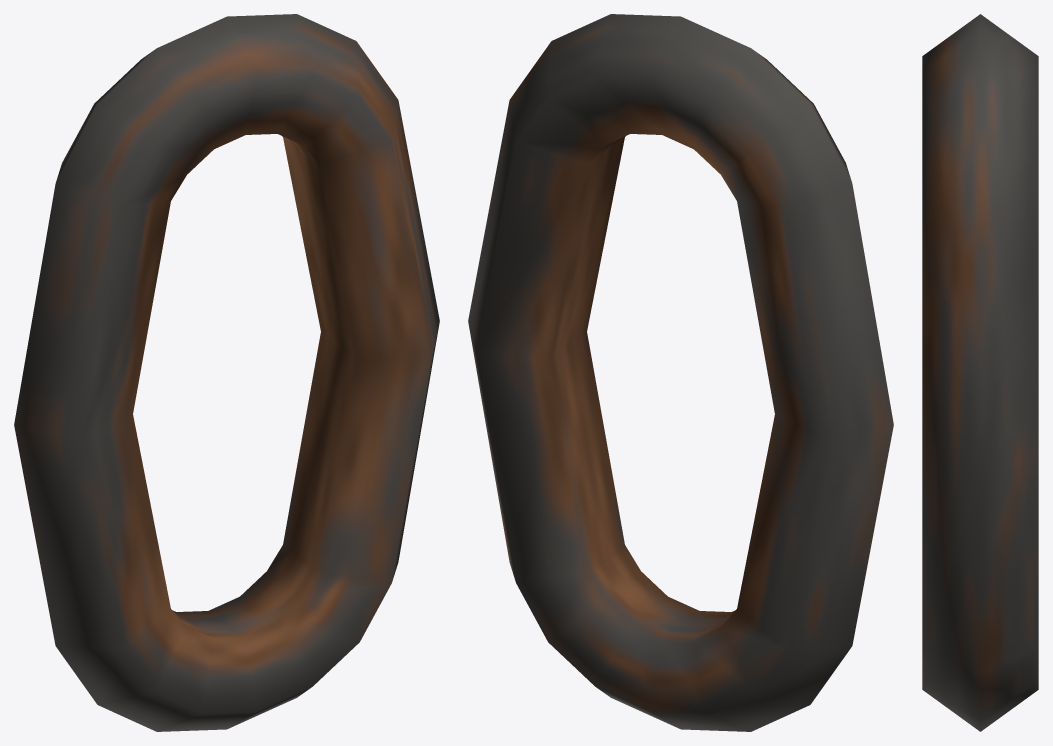
Rendered from elo.glb.
3 renders of one model, left to right at view 1: azimuth 30°, elevation 25°; view 2: azimuth 150°, elevation 25°; view 3: azimuth 270°, elevation 25°, orthographic. The views are drawn at different scales.
Parts seen in each view (by area): view 1: elo; view 2: elo; view 3: elo.
Part boxes in pixels (<box>): elo: <box>14,14,439,731</box>; elo: <box>468,14,893,731</box>; elo: <box>922,14,1038,731</box>.
Size of the model in its own units: 0.01 by 0.016 by 0.00247.
1 material, 1 textured.
